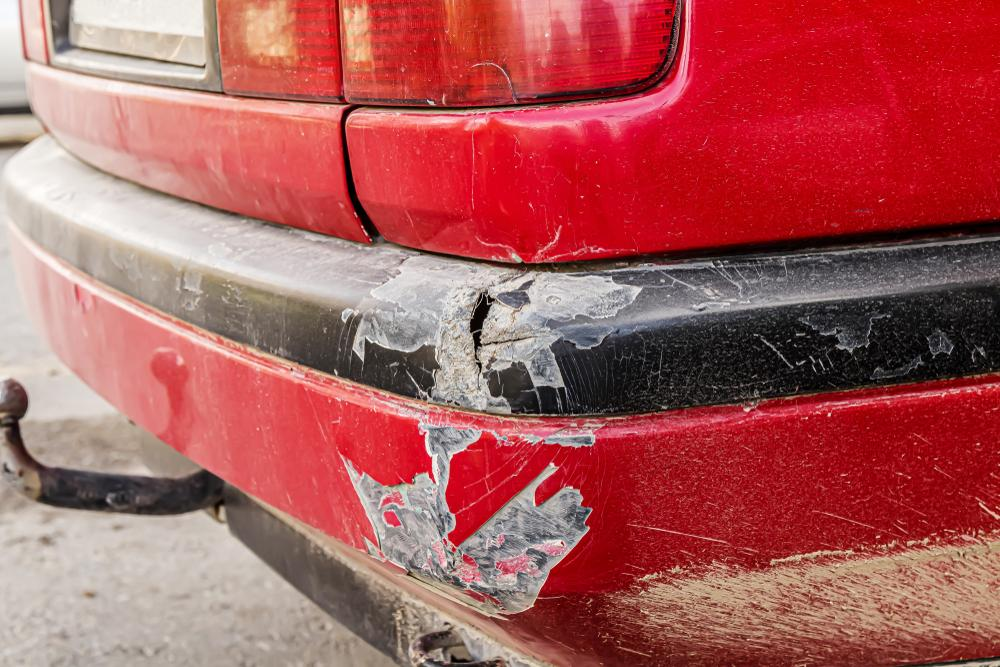crack: (465, 286, 496, 388)
scratch: (314, 253, 638, 616)
